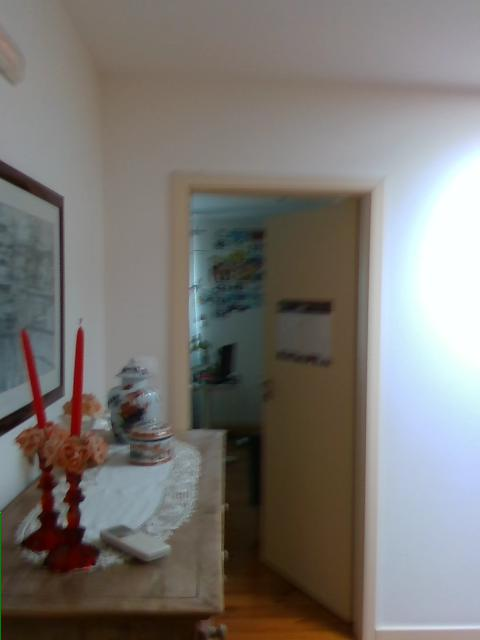semi_door: (164, 169, 385, 639)
